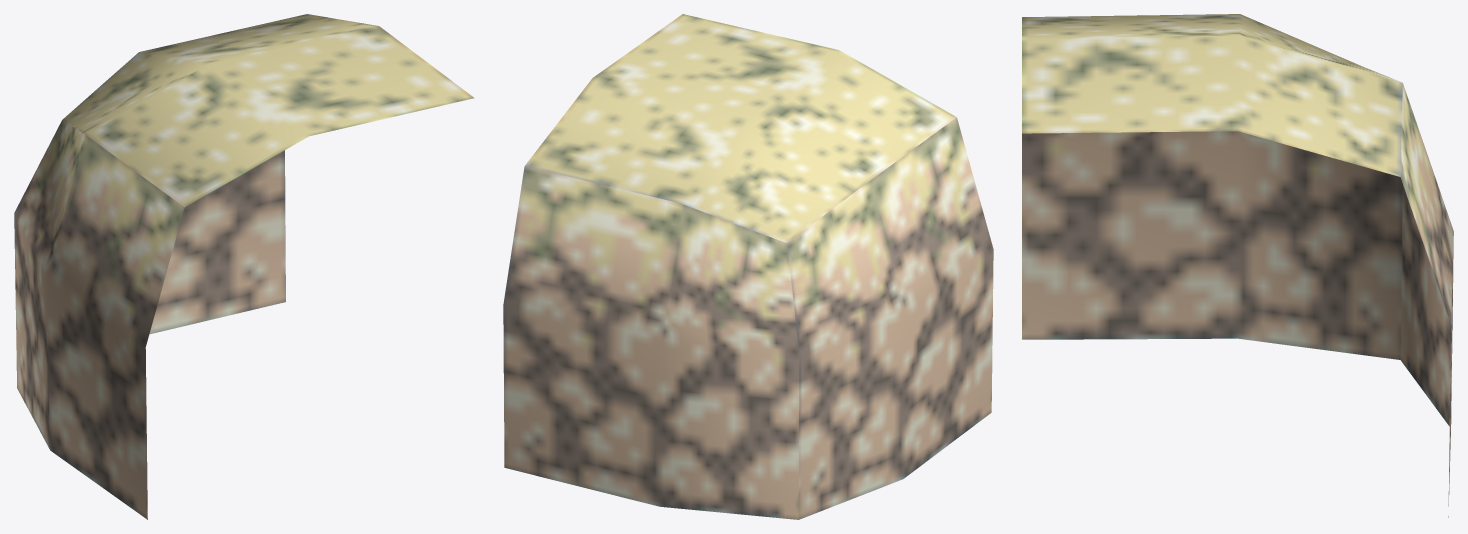
Rendered from sandSTile_groundCorner_upperLeft.fbx.
3 renders of one model, left to right at view 1: azimuth 30°, elevation 25°; view 2: azimuth 150°, elevation 25°; view 3: azimuth 270°, elevation 25°, orthographic. The views are drawn at different scales.
Visible parts, largest first — view 1: sandSTile_groundCorner_upperLeft; view 2: sandSTile_groundCorner_upperLeft; view 3: sandSTile_groundCorner_upperLeft.
Boxes of the visible parts, left/top/right/bottom form: sandSTile_groundCorner_upperLeft: left=14, top=14, right=474, bottom=519; sandSTile_groundCorner_upperLeft: left=503, top=14, right=993, bottom=519; sandSTile_groundCorner_upperLeft: left=1022, top=14, right=1453, bottom=517.
Size of the model in its own units: 1.01 by 1.01 by 1.01.
